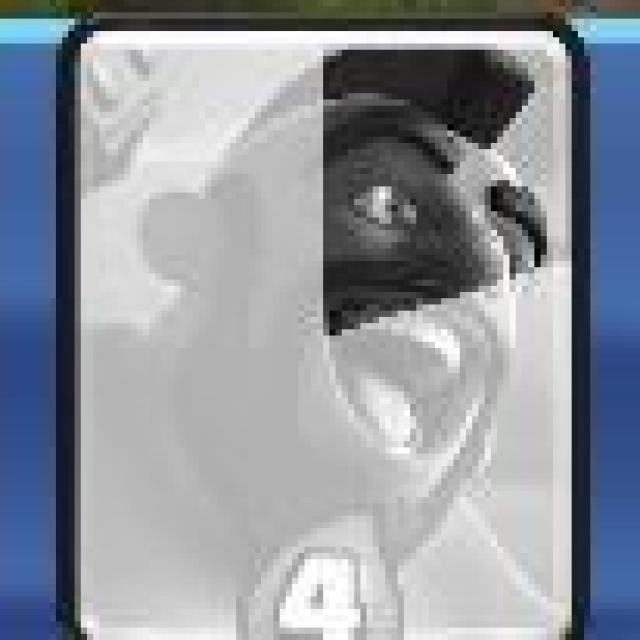Hog_Rider: (55, 14, 586, 640)
